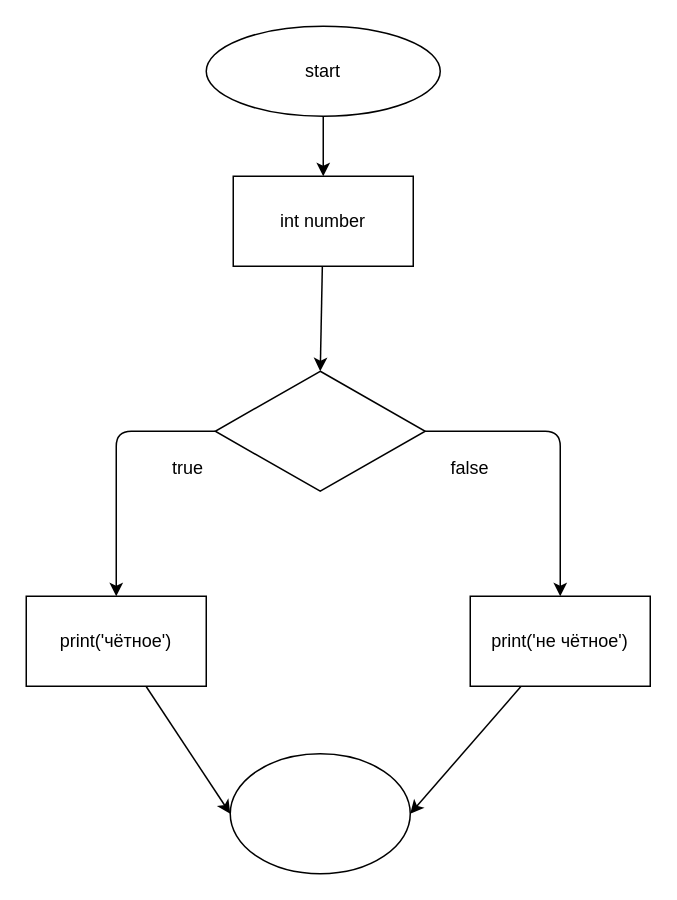
Some shapes in this 677 by 900 pixel diagram are drawn without their labels. Here are the shapes that lost their labels. From the top down, the centre of each, then its label:
point 319,430: if (number % 2 == 0)
point 319,813: end
